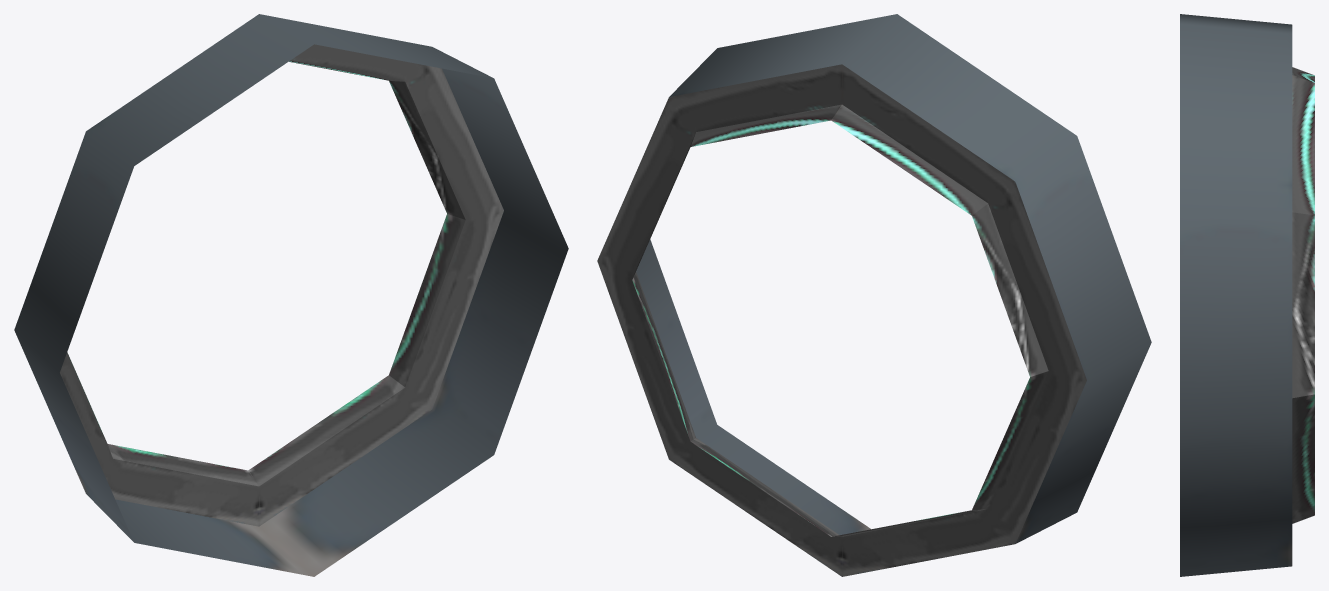
Rendered from FB_boss_dibiao_lunzi.FBX.
3 views of the same model, side by side, from view 1: azimuth 30°, elevation 25°; view 2: azimuth 150°, elevation 25°; view 3: azimuth 270°, elevation 25° (orthographic).
Visible parts, largest first — view 1: Object06; view 2: Object06; view 3: Object06.
Part boxes in pixels (x1,y1,x2,y2): Object06: (14,14,568,576); Object06: (597,14,1151,576); Object06: (1180,14,1314,576).
Size of the model in its own units: 2.7 by 2.7 by 0.6078.
